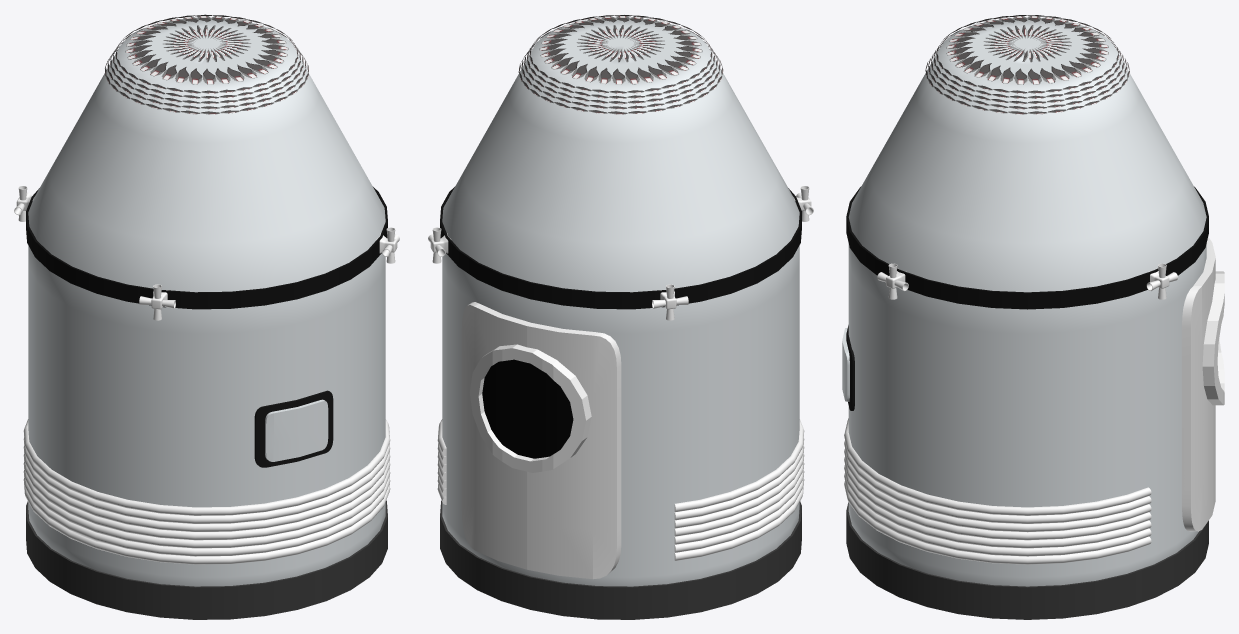
Rendered from spaceship.fbx.
3 renders of one model, left to right at view 1: azimuth 30°, elevation 25°; view 2: azimuth 150°, elevation 25°; view 3: azimuth 270°, elevation 25°, orthographic.
Parts seen in each view (by area): view 1: body, three-quarter_ring, ring2, apex, ring1, tank1, tank2, nozzle; view 2: body, Door, ring2, apex, three-quarter_ring, Glass, ring1, window, nozzle; view 3: body, three-quarter_ring, ring2, apex, Door, ring1, window, nozzle.
Part boxes in pixels (box(x1,y1,x2,y2)): body: box(28, 17, 385, 586); three-quarter_ring: box(23, 419, 390, 564); ring2: box(26, 500, 387, 619); apex: box(105, 14, 308, 114); ring1: box(26, 187, 387, 309); tank1: box(265, 399, 328, 461); tank2: box(254, 390, 333, 467); nozzle: box(14, 186, 399, 320); body: box(442, 17, 799, 586); Door: box(461, 302, 621, 579); ring2: box(440, 500, 801, 619); apex: box(518, 15, 723, 114); three-quarter_ring: box(437, 419, 804, 560); Glass: box(482, 359, 573, 458); ring1: box(440, 187, 801, 309); window: box(469, 344, 591, 472); nozzle: box(428, 186, 813, 320); body: box(848, 17, 1206, 586); three-quarter_ring: box(844, 418, 1151, 564); ring2: box(846, 502, 1208, 619); apex: box(925, 15, 1129, 114); Door: box(1182, 237, 1215, 531); ring1: box(846, 186, 1208, 309); window: box(1202, 271, 1224, 405); nozzle: box(877, 263, 1177, 299).
Size of the model in its own units: 41 by 61.55 by 42.7.
